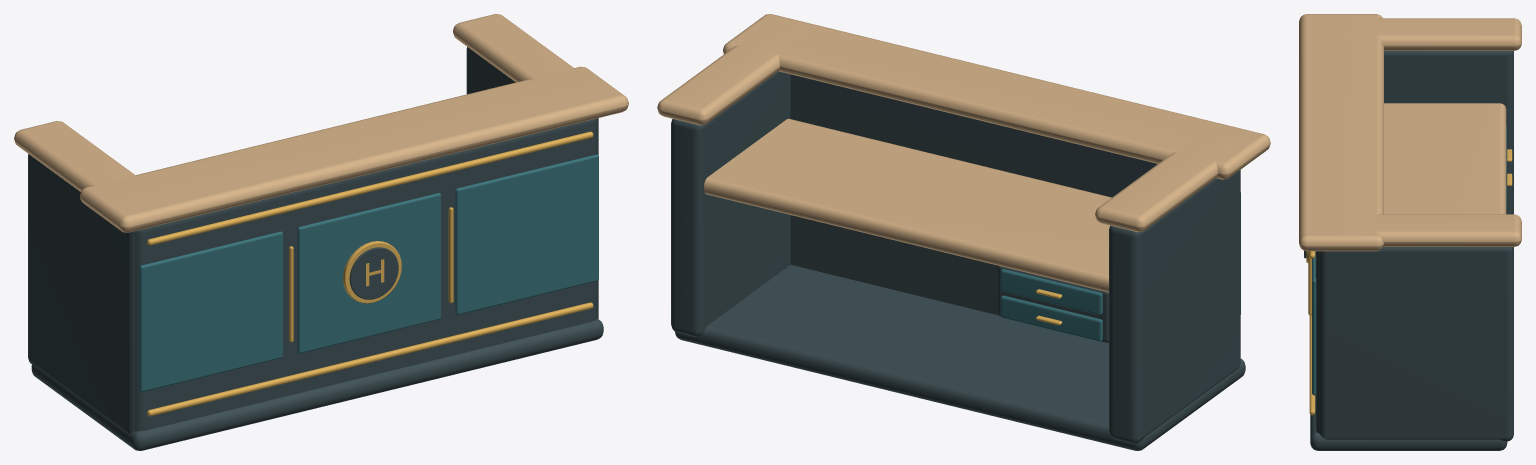
Rendered from HotelTogether-ReceptionCounter.glb.
3 views of the same model, side by side, from view 1: azimuth 30°, elevation 25°; view 2: azimuth 150°, elevation 25°; view 3: azimuth 270°, elevation 25° (orthographic). The views are drawn at different scales.
Visible parts, largest first — view 1: Counter_FrontWall, Counter_GuestLedge, Counter_SideReturn, Counter_FrontPanel, Counter_FrontPanel.002, Counter_FrontPanel.001, Counter_Plith, Counter_WoodSideCap, Counter_WoodSideCap.001, Counter_GoldRail, Counter_GoldRail.001, Counter_CrestFace (+2 smaller); view 2: Counter_Plith, Counter_WorkDesk, Counter_SideReturn, Counter_GuestLedge, Counter_FrontWall, Counter_SideReturn.001, Counter_WoodSideCap, Counter_WoodSideCap.001, Counter_DrawerFace, Counter_DrawerFace.001, Counter_DrawerCabinet; view 3: Counter_SideReturn.001, Counter_GuestLedge, Counter_WorkDesk, Counter_SideReturn, Counter_WoodSideCap, Counter_WoodSideCap.001, Counter_Plith, Counter_FrontWall, Counter_FrontPanel.002, Counter_GoldRail, Counter_GoldDivider.001.
Part boxes in pixels (x1,y1,x2,y2): Counter_FrontWall: (135,118,597,431); Counter_GuestLedge: (80,66,628,232); Counter_SideReturn: (28,154,135,433); Counter_FrontPanel: (139,231,283,391); Counter_FrontPanel.002: (455,154,598,314); Counter_FrontPanel.001: (297,193,440,353); Counter_Plith: (31,318,603,450); Counter_WoodSideCap: (14,121,142,207); Counter_WoodSideCap.001: (453,14,582,84); Counter_GoldRail: (147,302,593,416); Counter_GoldRail.001: (147,131,593,245); Counter_CrestFace: (349,247,398,299); Counter_Plith: (674,265,1245,450); Counter_WorkDesk: (704,118,1111,292); Counter_SideReturn: (1109,170,1240,443); Counter_GuestLedge: (723,14,1270,179); Counter_FrontWall: (790,74,1157,315); Counter_SideReturn.001: (671,71,790,336); Counter_WoodSideCap: (1095,128,1245,232); Counter_WoodSideCap.001: (657,22,807,125); Counter_DrawerFace: (1000,295,1102,341); Counter_DrawerFace.001: (1000,269,1102,314); Counter_DrawerCabinet: (997,265,1108,342); Counter_SideReturn.001: (1320,247,1513,441); Counter_GuestLedge: (1299,14,1383,251); Counter_WorkDesk: (1384,103,1506,214); Counter_SideReturn: (1384,51,1513,214); Counter_WoodSideCap: (1319,18,1521,50); Counter_WoodSideCap.001: (1325,214,1521,246); Counter_Plith: (1310,395,1507,450); Counter_FrontWall: (1315,251,1319,433); Counter_FrontPanel.002: (1312,251,1316,395); Counter_GoldRail: (1309,315,1315,415); Counter_GoldDivider.001: (1308,251,1311,315).
Bounding box in the file's own units: 2.4 × 1.1 × 0.995.
